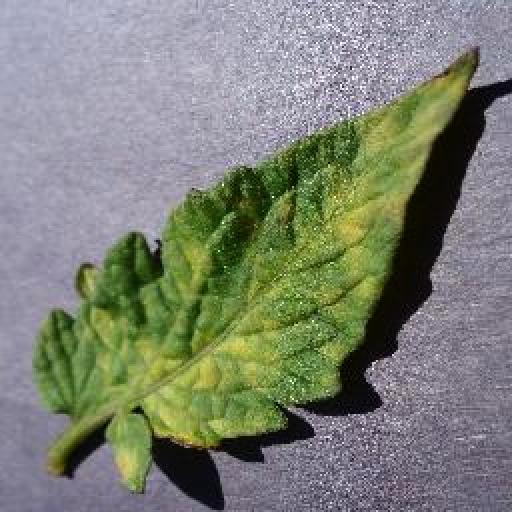disease_tomato: (36, 43, 478, 497)
